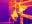Hotspot: (19, 6, 28, 14), (11, 10, 18, 19)
